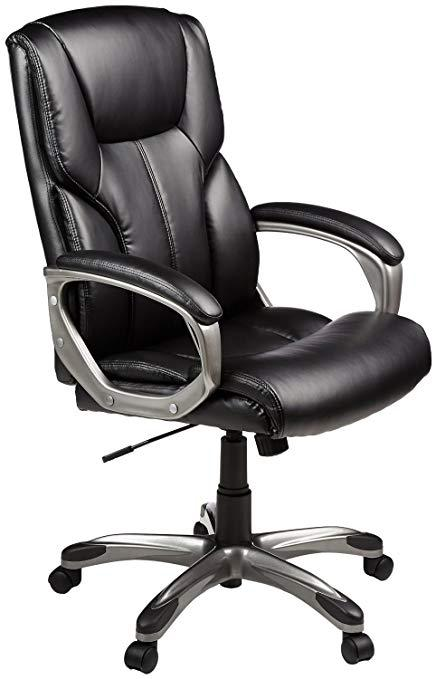chair: (4, 10, 417, 675)
